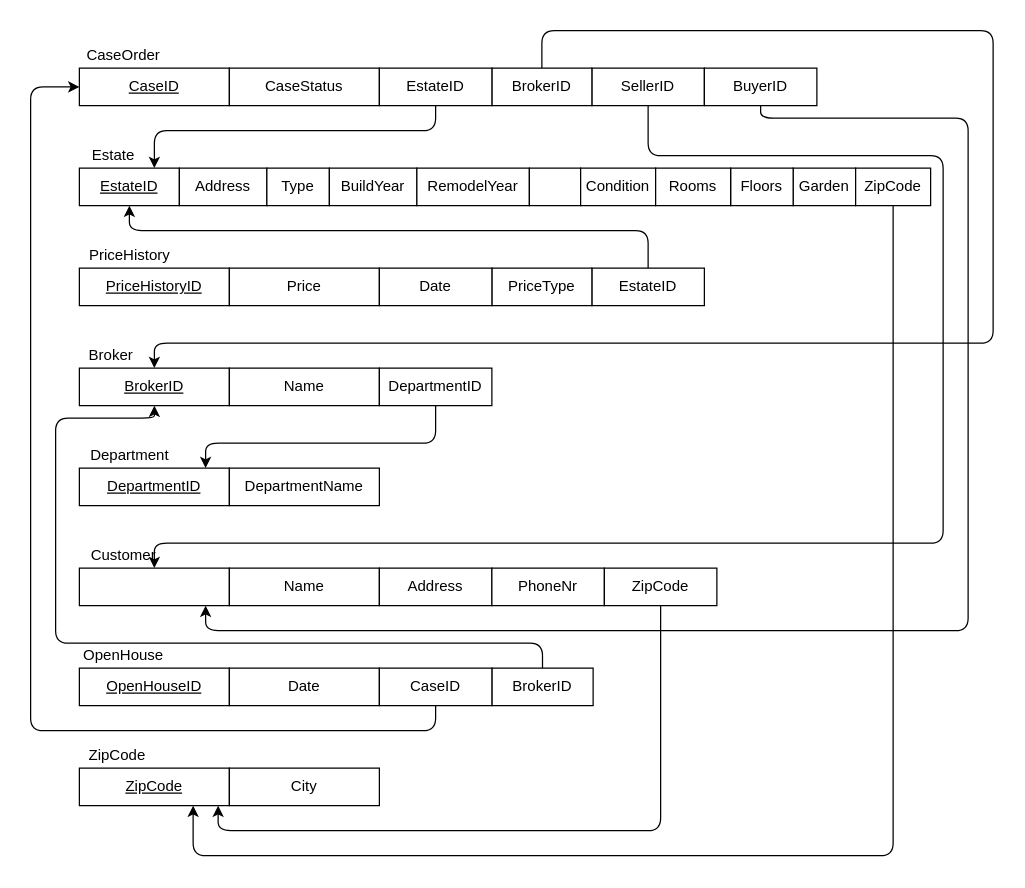
This 1025x888 diagram has some shape labels left out. The shapes that lost their labels are listed below. From the top down, each one's centre as x and y in pixels, then its label:
the point at 554,186: Areal
the point at 153,586: CustomerID
